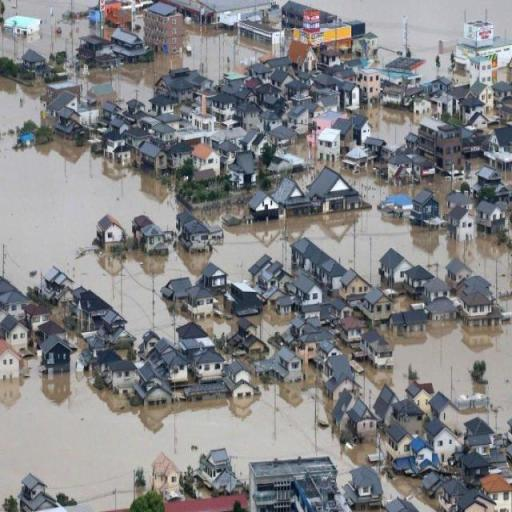flood: (0, 77, 512, 338), (0, 374, 374, 512), (293, 0, 512, 78), (395, 327, 512, 428), (116, 25, 273, 100), (0, 0, 93, 58), (339, 165, 483, 202), (362, 107, 434, 146), (286, 135, 325, 192), (385, 476, 446, 512), (503, 170, 511, 189)
house: (250, 453, 336, 511), (293, 231, 346, 293), (75, 288, 127, 348), (310, 169, 363, 217), (181, 0, 278, 26), (38, 313, 73, 383), (426, 391, 464, 453), (418, 116, 460, 170), (335, 387, 374, 444), (96, 347, 140, 397), (199, 445, 241, 496), (460, 272, 496, 331), (144, 2, 184, 55), (344, 462, 383, 510), (405, 261, 447, 304), (428, 413, 462, 465), (134, 209, 170, 258), (314, 22, 360, 60), (380, 245, 417, 291), (176, 321, 218, 361), (176, 213, 214, 255), (12, 26, 48, 68), (95, 210, 127, 256), (151, 450, 183, 496), (168, 493, 244, 512), (156, 68, 194, 106), (276, 176, 314, 214), (226, 278, 263, 317), (44, 86, 76, 130), (362, 329, 393, 372), (477, 470, 512, 508), (474, 163, 512, 198), (446, 201, 474, 248), (409, 186, 440, 228), (284, 1, 336, 26), (0, 336, 24, 389), (455, 44, 512, 66), (324, 348, 351, 394), (264, 349, 298, 384), (462, 415, 498, 448), (232, 146, 259, 190), (56, 112, 88, 149), (390, 308, 428, 339), (476, 201, 506, 240), (78, 34, 116, 64), (1, 14, 43, 41), (162, 274, 193, 310), (138, 138, 164, 180), (460, 18, 496, 48), (238, 20, 281, 45), (195, 346, 224, 382), (191, 142, 219, 179), (106, 134, 132, 173), (459, 485, 496, 512), (278, 346, 304, 384), (486, 128, 512, 166), (315, 125, 342, 161), (387, 423, 414, 459), (382, 194, 414, 224), (0, 313, 30, 345), (463, 448, 489, 484), (248, 192, 277, 224), (374, 384, 398, 422), (21, 46, 50, 77), (44, 265, 74, 294), (253, 355, 281, 386), (364, 289, 392, 320), (452, 391, 491, 413), (357, 69, 383, 102), (394, 396, 424, 424), (406, 381, 434, 410), (341, 267, 370, 294), (446, 256, 472, 286), (441, 478, 467, 508), (142, 384, 174, 408), (429, 296, 458, 322), (113, 26, 142, 52), (468, 56, 494, 85), (470, 81, 496, 109), (0, 289, 28, 314), (166, 352, 188, 382), (202, 262, 227, 287), (410, 436, 434, 462), (270, 124, 298, 146), (26, 306, 53, 328), (355, 113, 374, 144), (24, 472, 46, 498), (229, 358, 251, 383), (222, 72, 247, 94), (210, 96, 235, 118), (301, 8, 321, 35), (142, 328, 162, 354), (150, 95, 176, 115), (314, 90, 340, 110), (315, 71, 342, 90), (426, 276, 449, 298), (231, 381, 259, 399), (272, 66, 294, 88), (386, 498, 420, 512), (192, 114, 218, 132), (390, 456, 417, 473), (244, 334, 266, 354), (423, 472, 442, 495), (493, 80, 512, 102), (431, 76, 453, 94), (239, 102, 261, 120), (154, 124, 177, 141), (276, 296, 294, 316), (102, 101, 121, 119), (126, 98, 145, 116), (110, 117, 130, 134), (263, 286, 287, 300), (235, 318, 259, 332), (414, 97, 432, 115), (469, 112, 489, 126), (275, 270, 293, 284), (366, 32, 379, 50)
